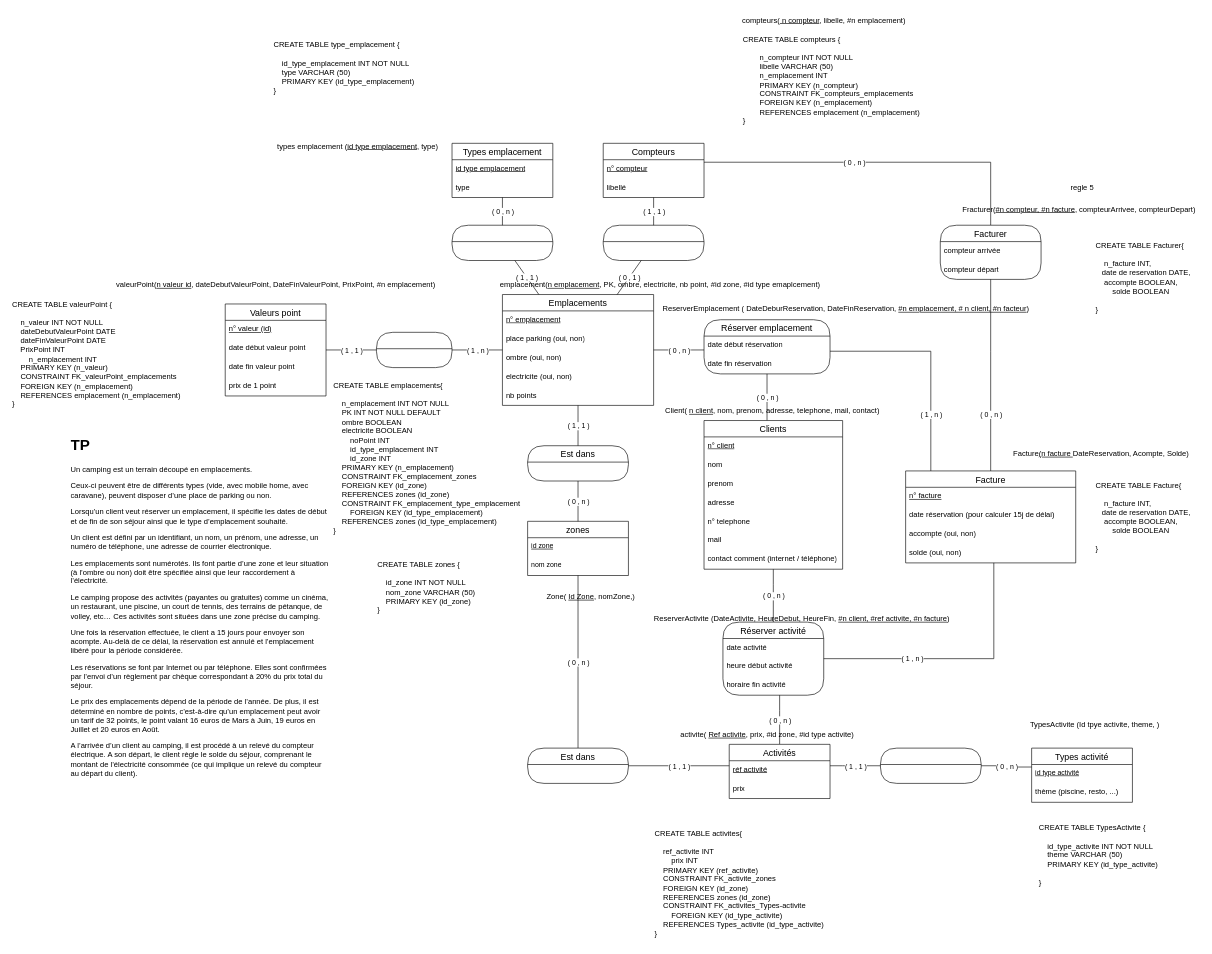
Image size: 1212x954. Some labels were removed from this diagram. Here are the shapes that lost their labels. From the top down, the centre of each, then its label:
At [502,243]: "Etre de".
At [653,243]: "Posséder".
At [414,350]: "valoir".
At [930,765]: "Est de".
